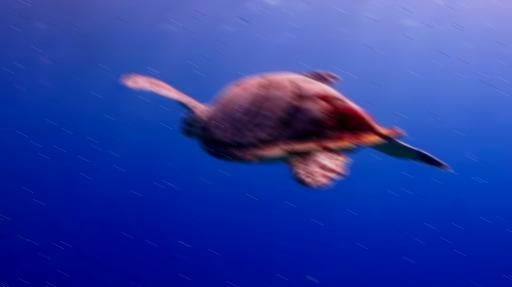Fish: (124, 73, 448, 186)
